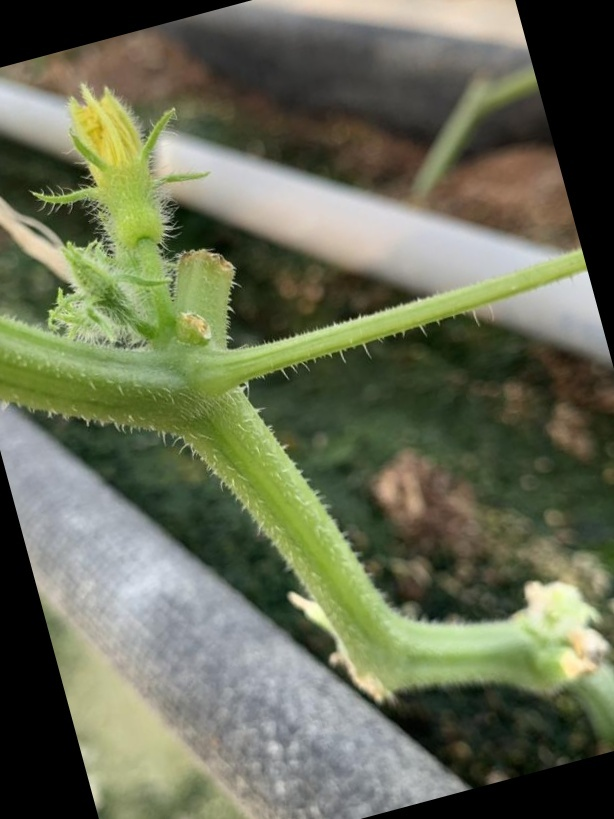bud: (48, 89, 200, 263)
